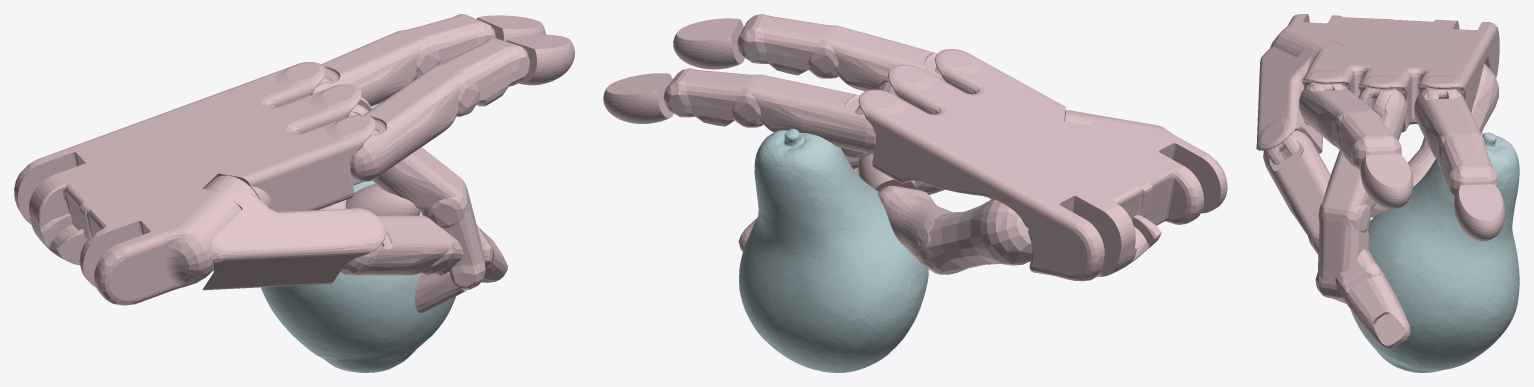
The model's file is grasp_4.glb.
3 views of the same model, side by side, from view 1: azimuth 30°, elevation 25°; view 2: azimuth 150°, elevation 25°; view 3: azimuth 270°, elevation 25° (orthographic). The views are drawn at different scales.
Parts seen in each view (by area): view 1: world; view 2: world; view 3: world.
Part boxes in pixels (bbox=[...]): world: bbox=[14, 14, 574, 372]; world: bbox=[603, 14, 1227, 372]; world: bbox=[1256, 14, 1519, 372].
Size of the model in its own units: 0.2117 by 0.1172 by 0.0997.
